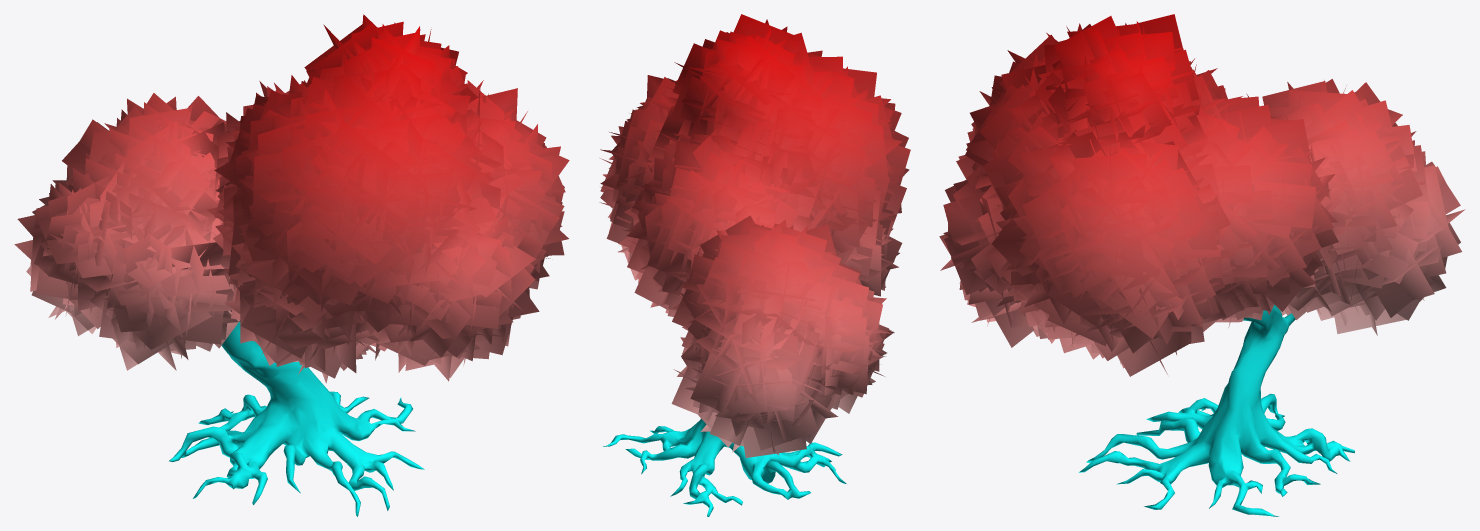
Rendered from OakTree04.fbx.
3 views of the same model, side by side, from view 1: azimuth 30°, elevation 25°; view 2: azimuth 150°, elevation 25°; view 3: azimuth 270°, elevation 25° (orthographic). The views are drawn at different scales.
Visible parts, largest first — view 1: OakTree04_LOD0; view 2: OakTree04_LOD0; view 3: OakTree04_LOD0.
Boxes of the visible parts, <box> form: OakTree04_LOD0: <box>14,14,569,516</box>; OakTree04_LOD0: <box>599,14,910,516</box>; OakTree04_LOD0: <box>939,14,1465,516</box>.
Bounding box in the file's own units: 1099 × 1175 × 1202.
